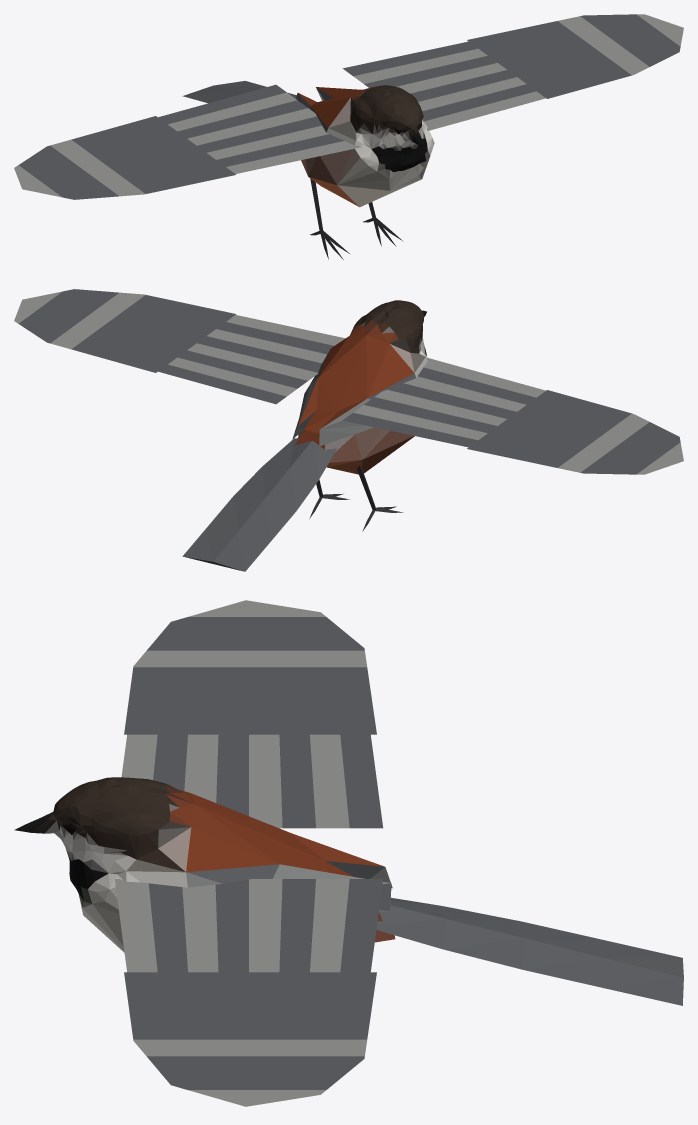
The model's file is chickadee.glb.
3 renders of one model, top to bottom at view 1: azimuth 30°, elevation 25°; view 2: azimuth 150°, elevation 25°; view 3: azimuth 270°, elevation 25°, orthographic. The views are drawn at different scales.
Visible parts, largest first — view 1: lod0; view 2: lod0; view 3: lod0.
Boxes of the visible parts, bbox=[...] form: lod0: bbox=[14, 14, 683, 259]; lod0: bbox=[14, 289, 683, 571]; lod0: bbox=[14, 600, 683, 1106].
Size of what is drawn, in the model's own units: 0.2 by 0.0516 by 0.1118.
